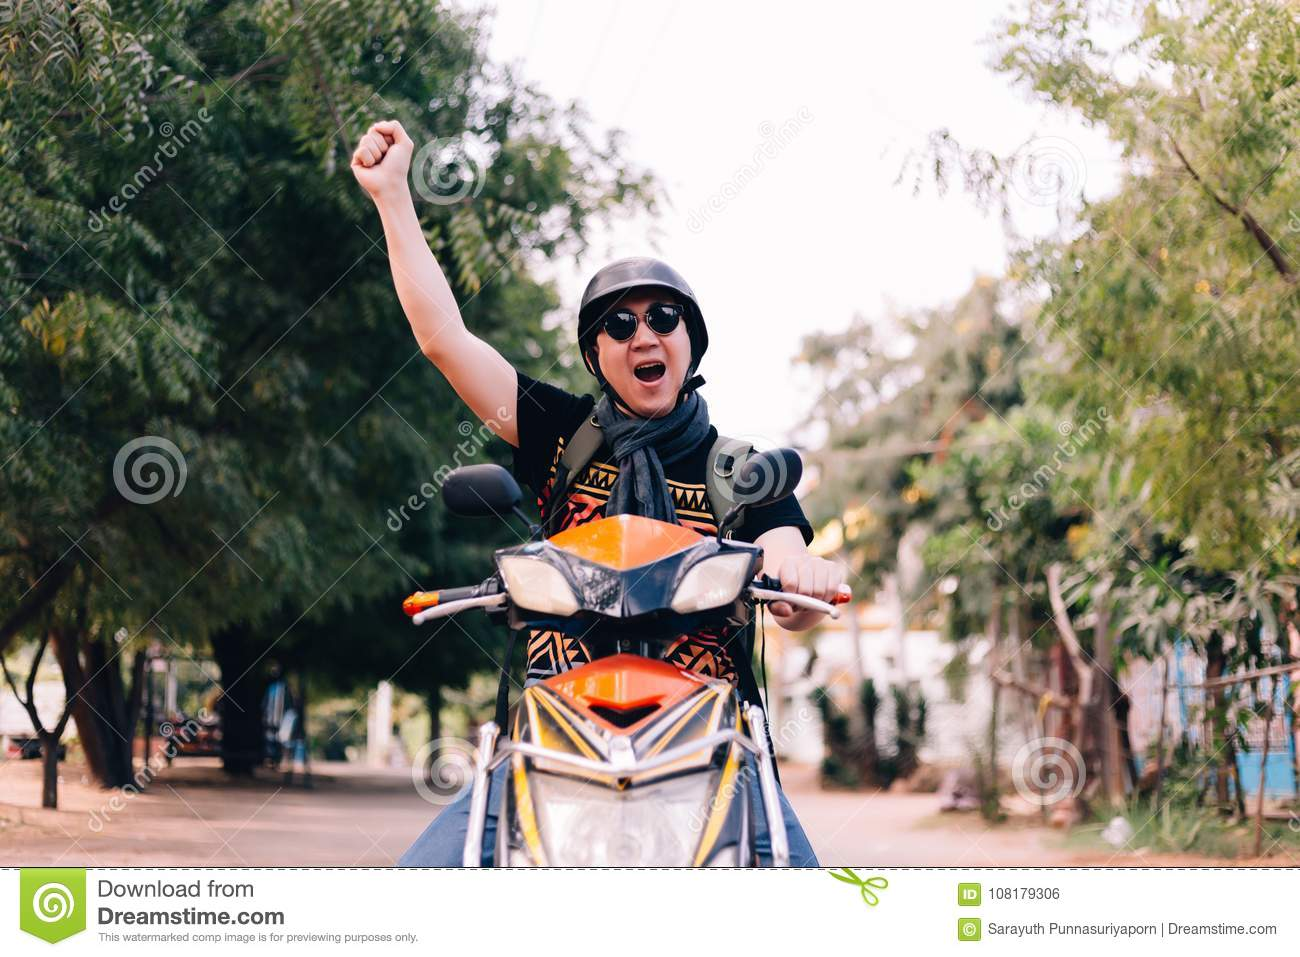helmet: (570, 261, 705, 345)
